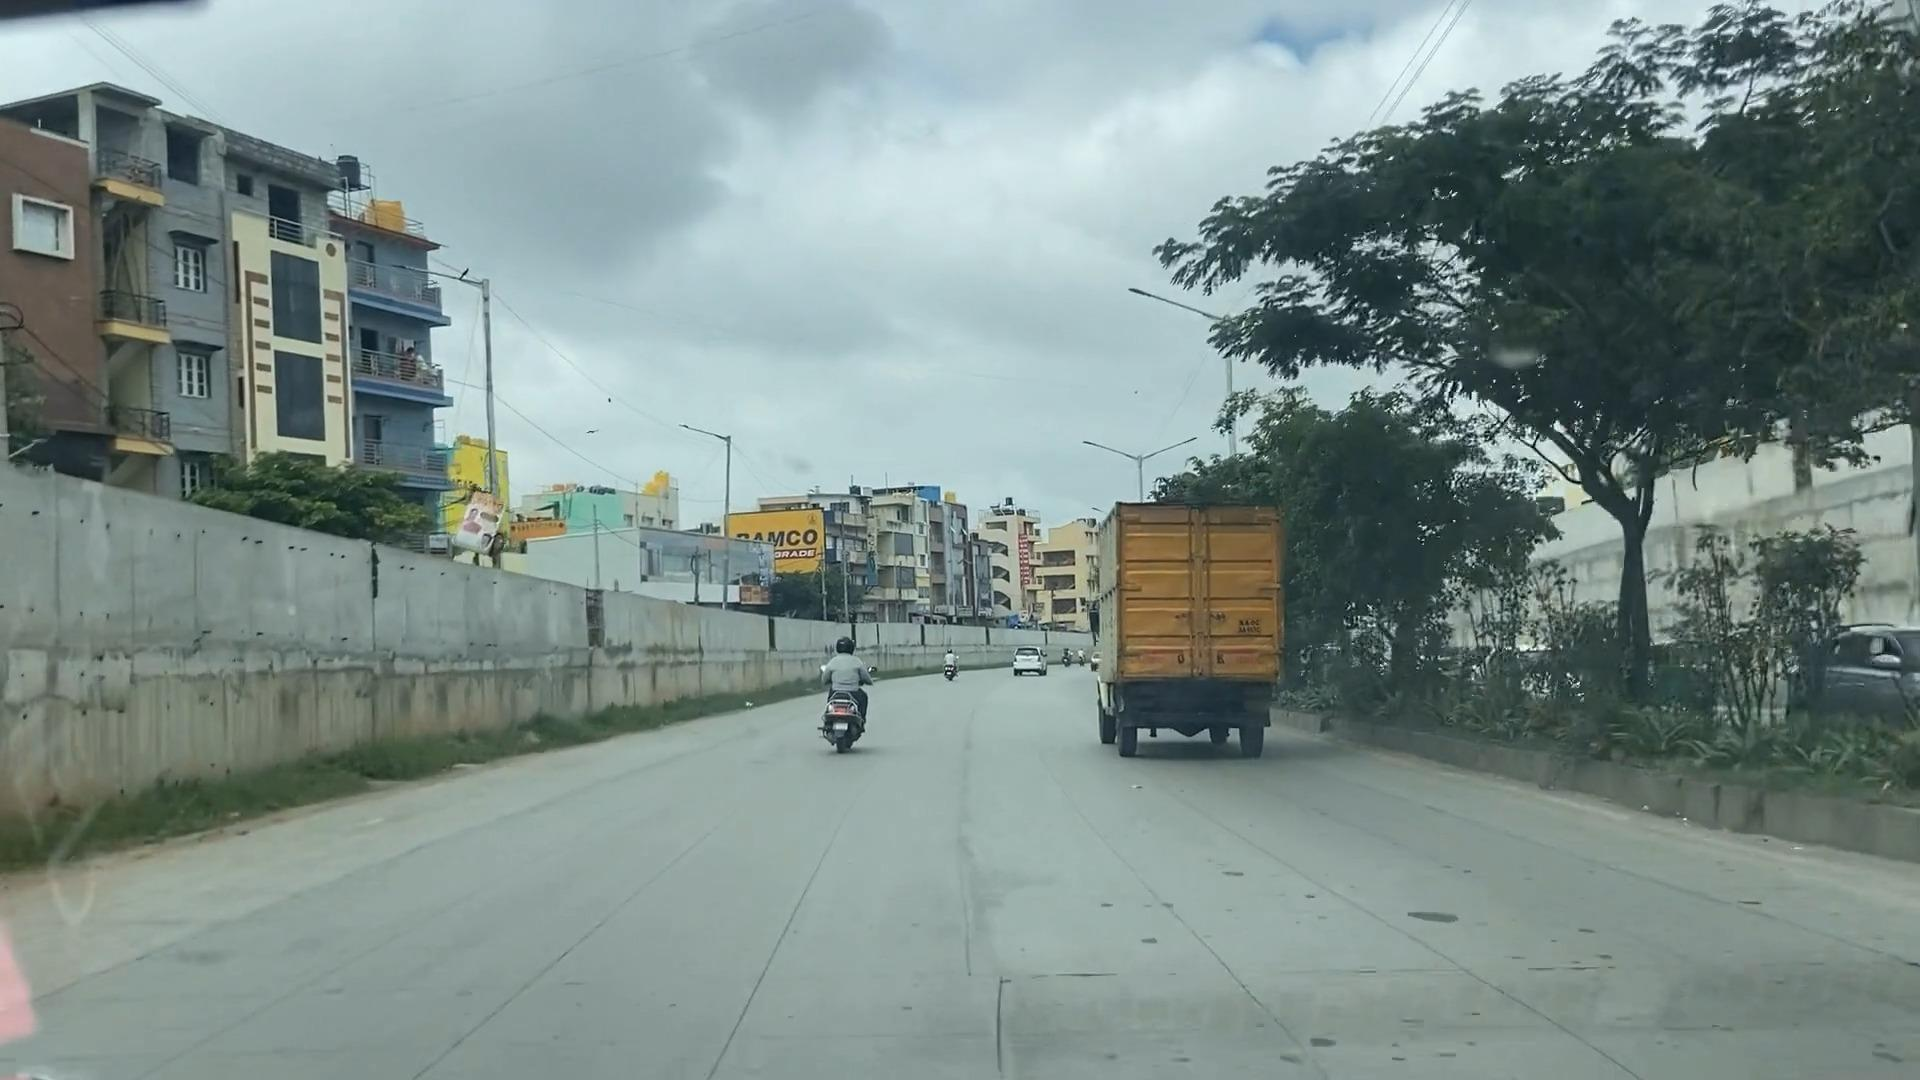HMV: (1059, 477, 1299, 796)
